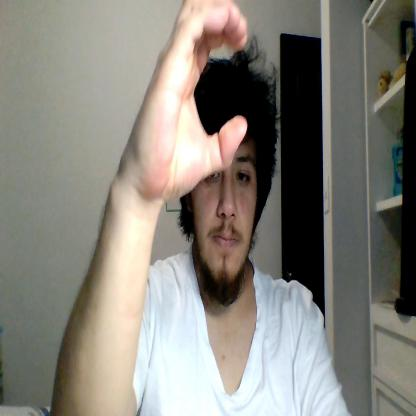C: (133, 0, 248, 201)
